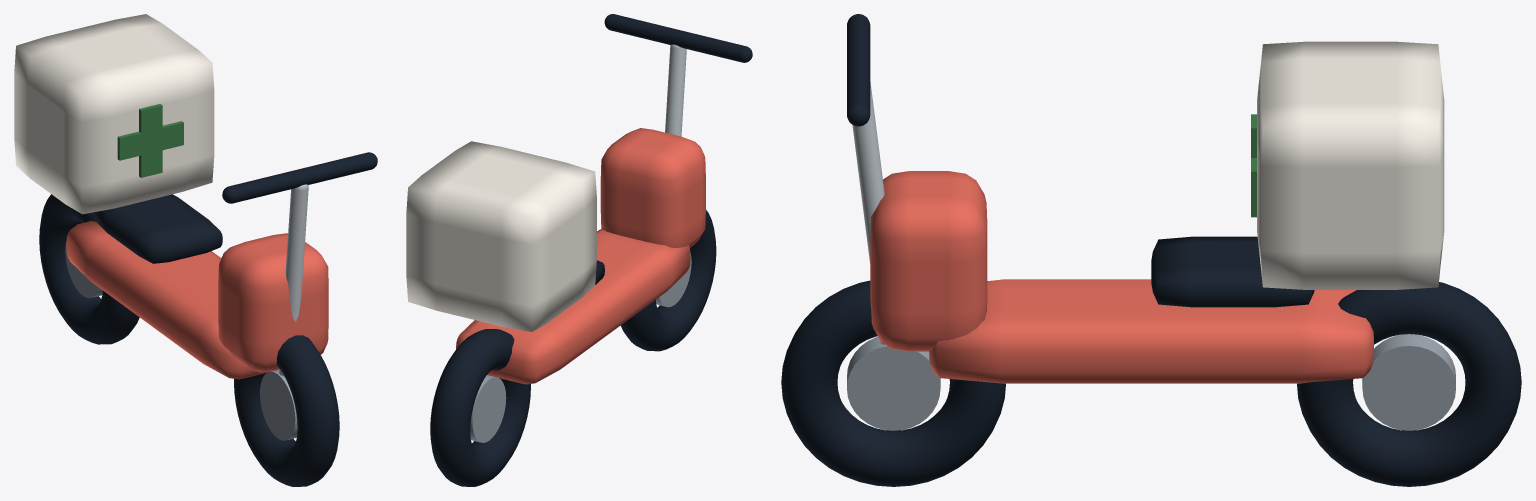
Rendered from ph_delivery.glb.
3 renders of one model, left to right at view 1: azimuth 30°, elevation 25°; view 2: azimuth 150°, elevation 25°; view 3: azimuth 270°, elevation 25°, orthographic. The views are drawn at different scales.
Parts seen in each view (by area): view 1: ph_delivery; view 2: ph_delivery; view 3: ph_delivery.
Part boxes in pixels (box(x1,y1,x2,y2)): ph_delivery: box(14, 14, 377, 486); ph_delivery: box(406, 14, 752, 486); ph_delivery: box(781, 14, 1521, 486).
Bounding box in the file's own units: 1 × 2 × 3.16.
